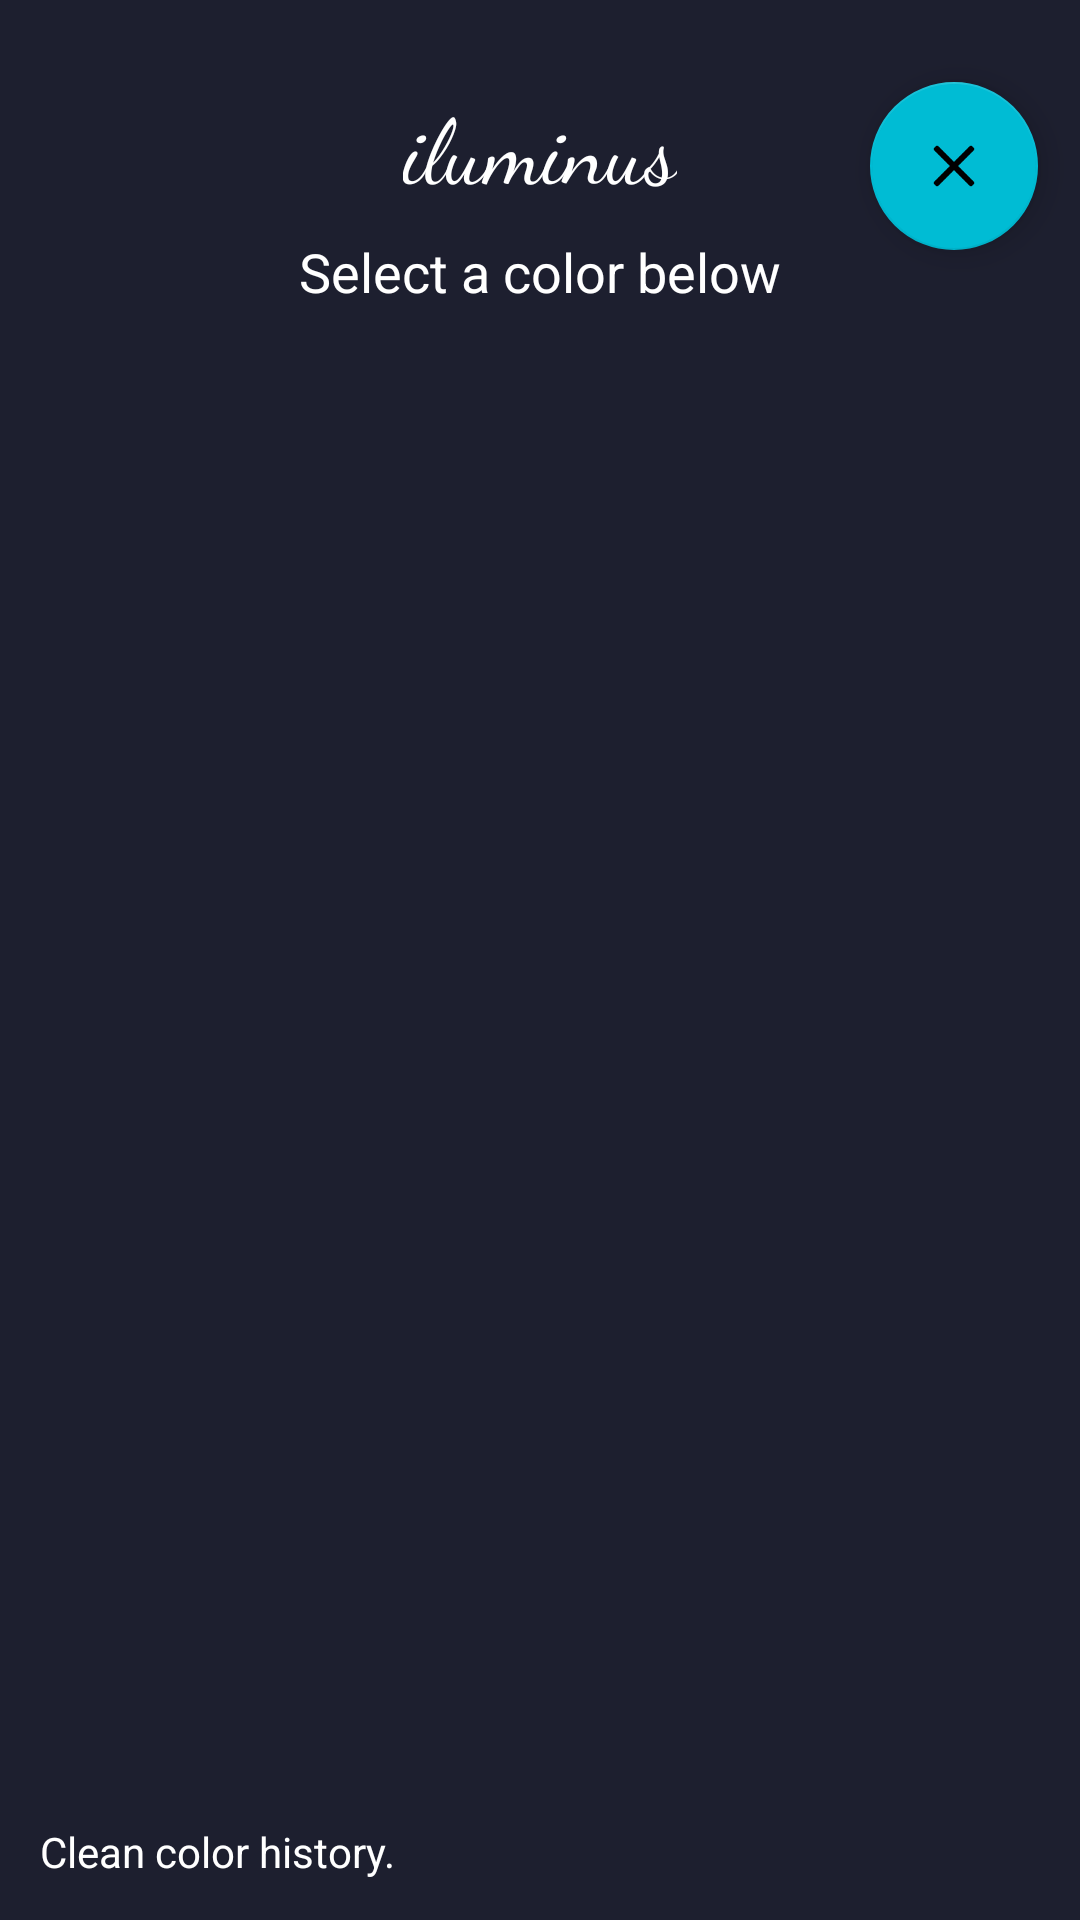

Where icons sit on this 1080px x 1920px app screen, as (x1, y1, x2, y2):
close: (870, 82, 1038, 250)
